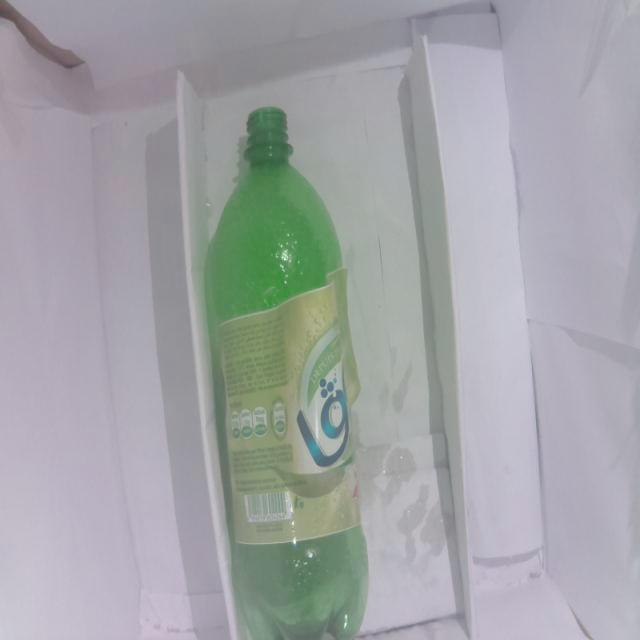bottle: (202, 105, 368, 640)
